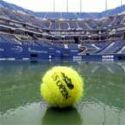tennis ball: (39, 65, 86, 110)
